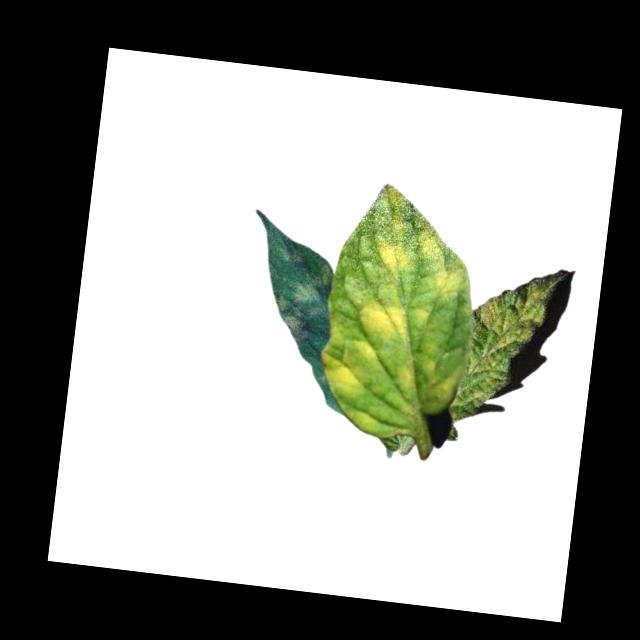Leaf_Mold: (445, 269, 557, 431), (372, 182, 454, 278), (271, 260, 332, 347), (357, 294, 441, 349), (315, 335, 386, 395), (394, 354, 445, 397), (432, 262, 470, 306)
